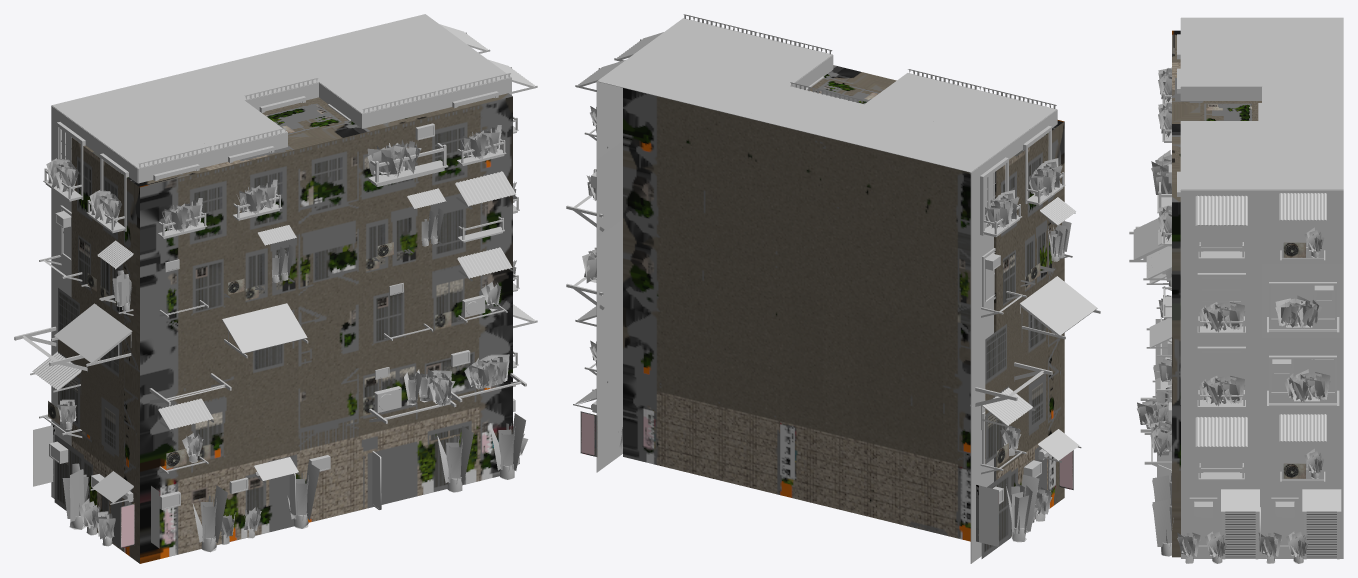
The model's file is nc_building_05.fbx.
3 views of the same model, side by side, from view 1: azimuth 30°, elevation 25°; view 2: azimuth 150°, elevation 25°; view 3: azimuth 270°, elevation 25° (orthographic). The views are drawn at different scales.
Visible parts, largest first — view 1: nc_building_05_LOD0; view 2: nc_building_05_LOD0; view 3: nc_building_05_LOD0.
Part boxes in pixels (box(x1,y1,x2,y2)): nc_building_05_LOD0: box(14, 14, 537, 563); nc_building_05_LOD0: box(566, 14, 1100, 563); nc_building_05_LOD0: box(1129, 17, 1343, 563).
Size of what is drawn, in the model's own units: 12.2 by 10.11 by 5.27.
